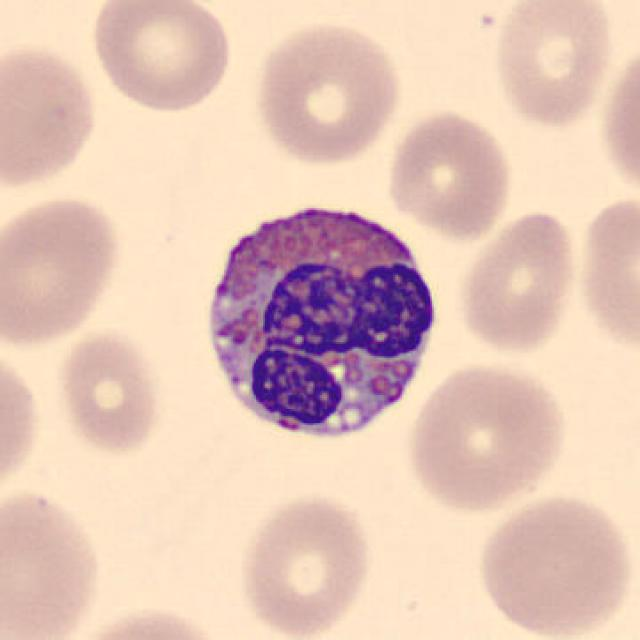Eosinophil: (188, 188, 452, 458)
RBC: (404, 358, 570, 515), (471, 488, 637, 638), (249, 16, 405, 167), (235, 490, 377, 638), (0, 192, 126, 351), (454, 204, 582, 360), (384, 106, 517, 242), (86, 0, 237, 115), (489, 0, 617, 132), (0, 485, 105, 640), (0, 38, 101, 195), (53, 326, 167, 460), (572, 190, 640, 362), (595, 37, 640, 204), (0, 342, 44, 506), (67, 601, 233, 640)
